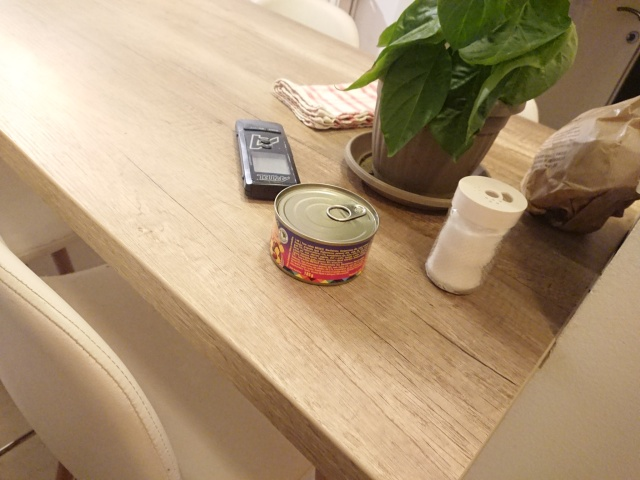Giana Tuna Salad Mexico 185g: (266, 180, 382, 290)
